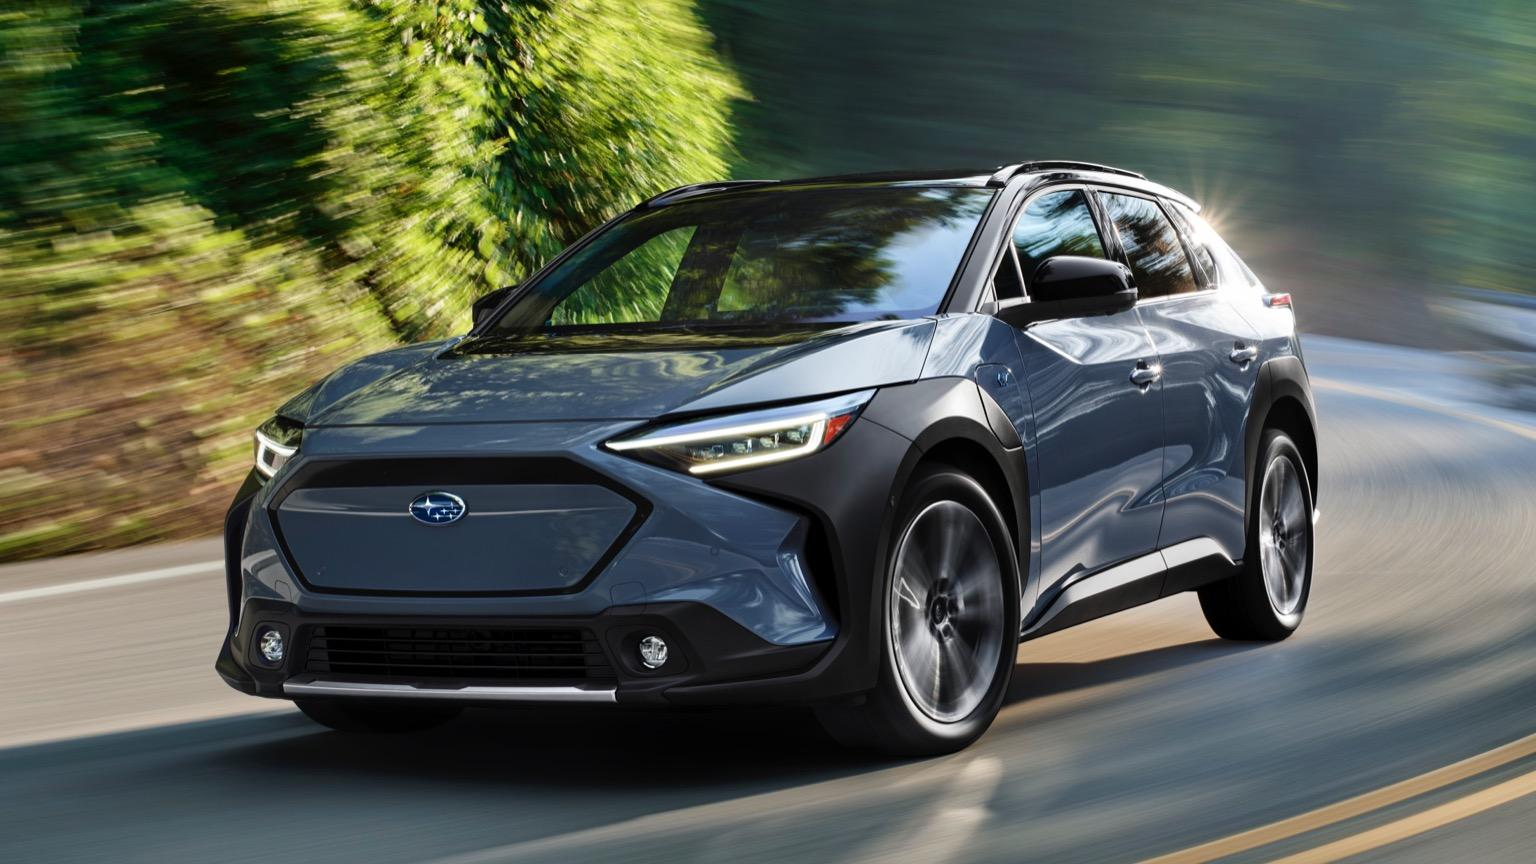subaru: (393, 485, 489, 531)
